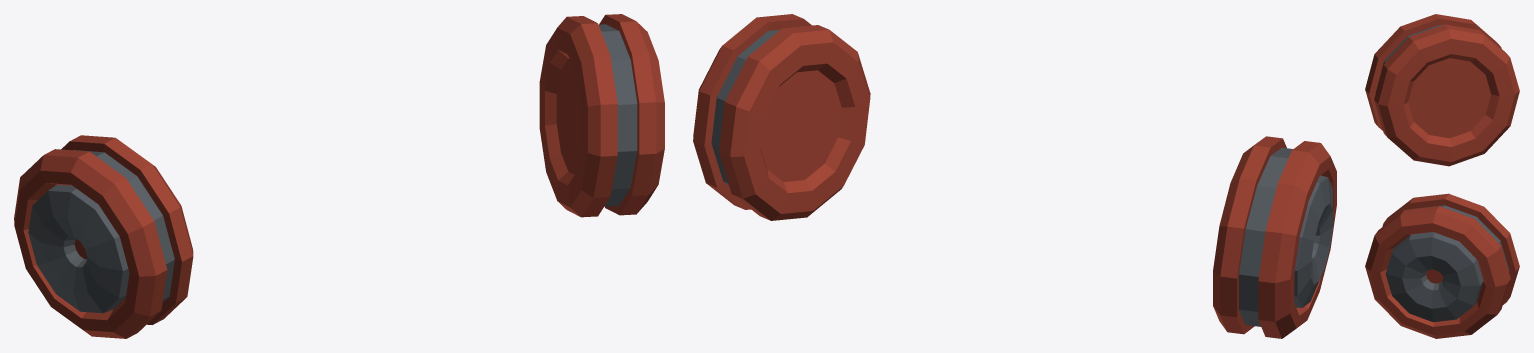
The model's file is Dropship_05_Ammo_Tanks_Red.fbx.
3 renders of one model, left to right at view 1: azimuth 30°, elevation 25°; view 2: azimuth 150°, elevation 25°; view 3: azimuth 270°, elevation 25°, orthographic. The views are drawn at different scales.
Visible parts, largest first — view 1: Dropship_05_Ammo_Tanks_Red; view 2: Dropship_05_Ammo_Tanks_Red; view 3: Dropship_05_Ammo_Tanks_Red.
Boxes of the visible parts, left/top/right/bottom form: Dropship_05_Ammo_Tanks_Red: left=14, top=14, right=664, bottom=338; Dropship_05_Ammo_Tanks_Red: left=693, top=14, right=1336, bottom=338; Dropship_05_Ammo_Tanks_Red: left=1365, top=14, right=1519, bottom=338.
Size of the model in its own units: 405 by 118 by 124.
1 material, 1 textured.
